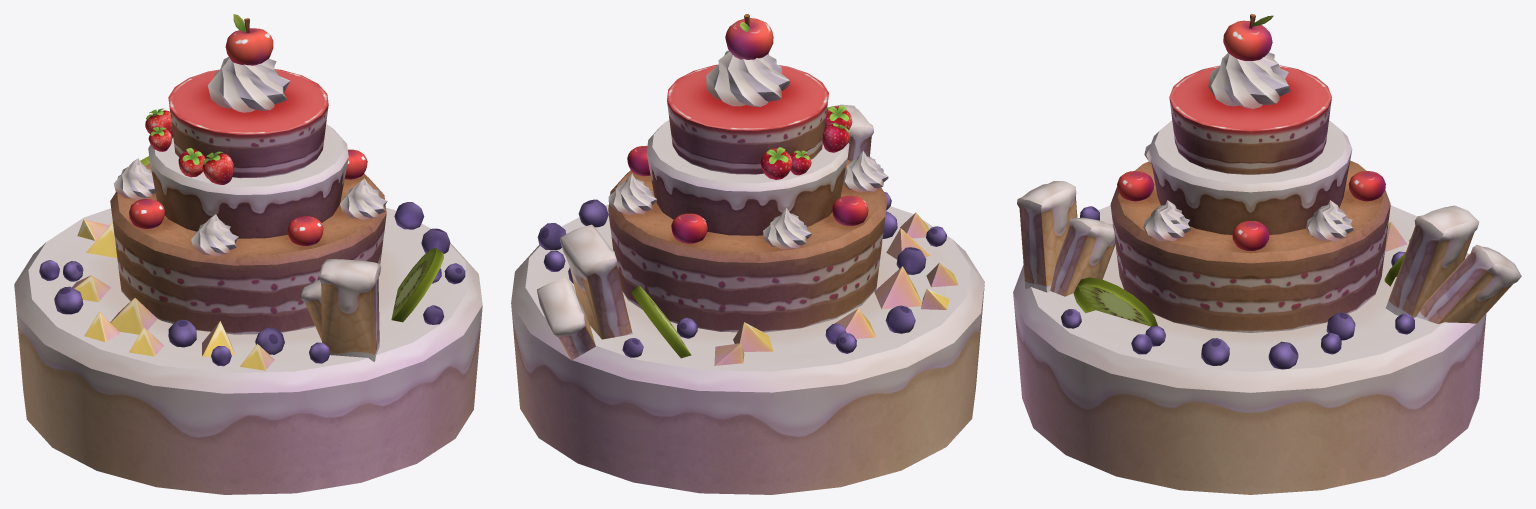
Rendered from scenes_candy_cake01.FBX.
The picture shows the model from 3 angles, left to right: view 1: azimuth 30°, elevation 25°; view 2: azimuth 150°, elevation 25°; view 3: azimuth 270°, elevation 25°; orthographic projection.
Visible parts, largest first — view 1: scenes_candy_cake01; view 2: scenes_candy_cake01; view 3: scenes_candy_cake01.
Part boxes in pixels (box(x1,y1,x2,y2)): scenes_candy_cake01: box(14, 14, 482, 494); scenes_candy_cake01: box(511, 14, 984, 494); scenes_candy_cake01: box(1013, 14, 1521, 494).
Bounding box in the file's own units: 708 × 631 × 759.
